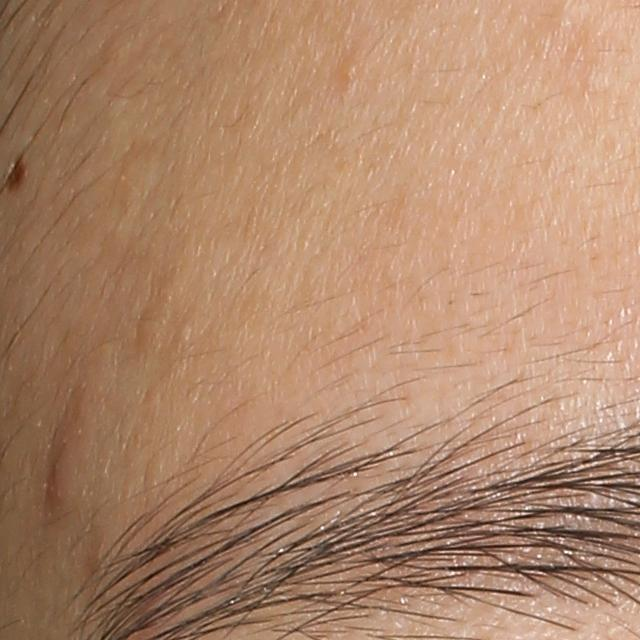comedo: (343, 57, 360, 80), (179, 320, 192, 340)
